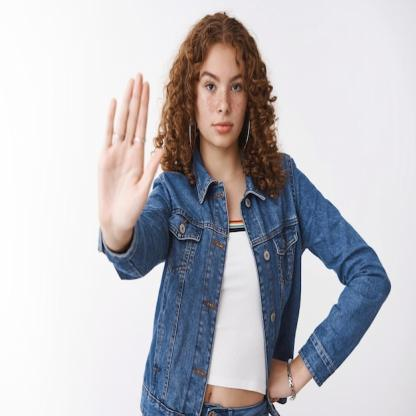stop: (93, 68, 165, 230)
